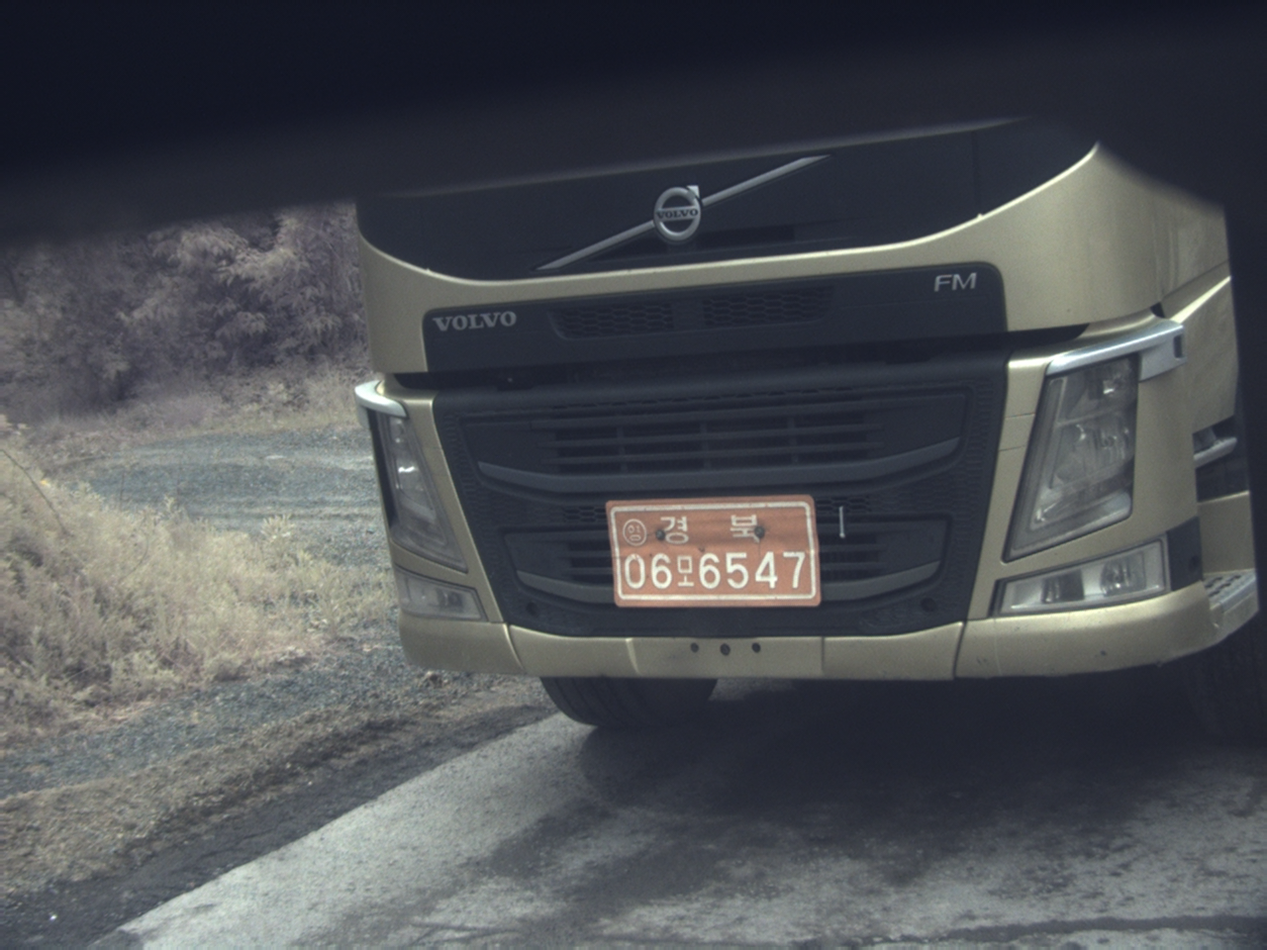license_plate: (609, 497, 819, 605)
truck: (356, 121, 1265, 735)
